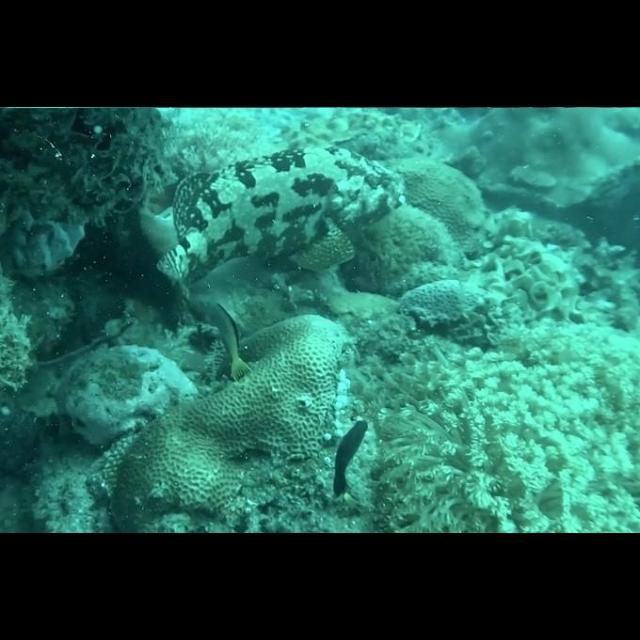Groupers: (156, 143, 408, 294)
